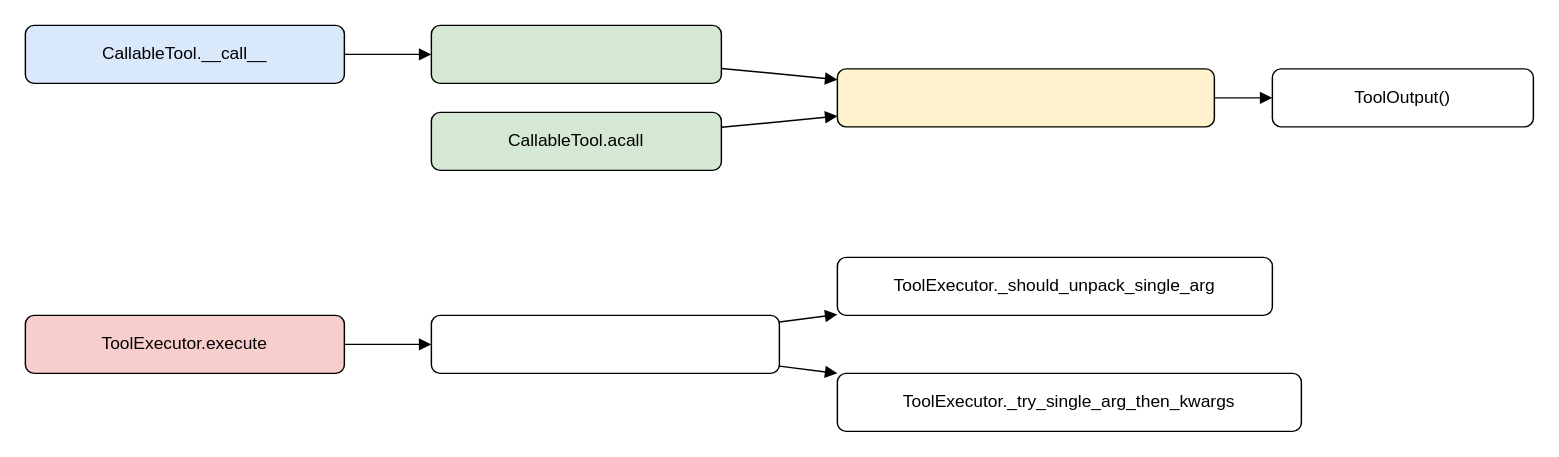
The diagram is 1559 pixels wide and 457 high, and some of its shapes have lost their labels. Each missing label, with the centre of its shape:
CallableTool._parse_tool_output: point 1025,97
CallableTool.call: point 575,53
ToolExecutor._invoke_tool: point 604,343
